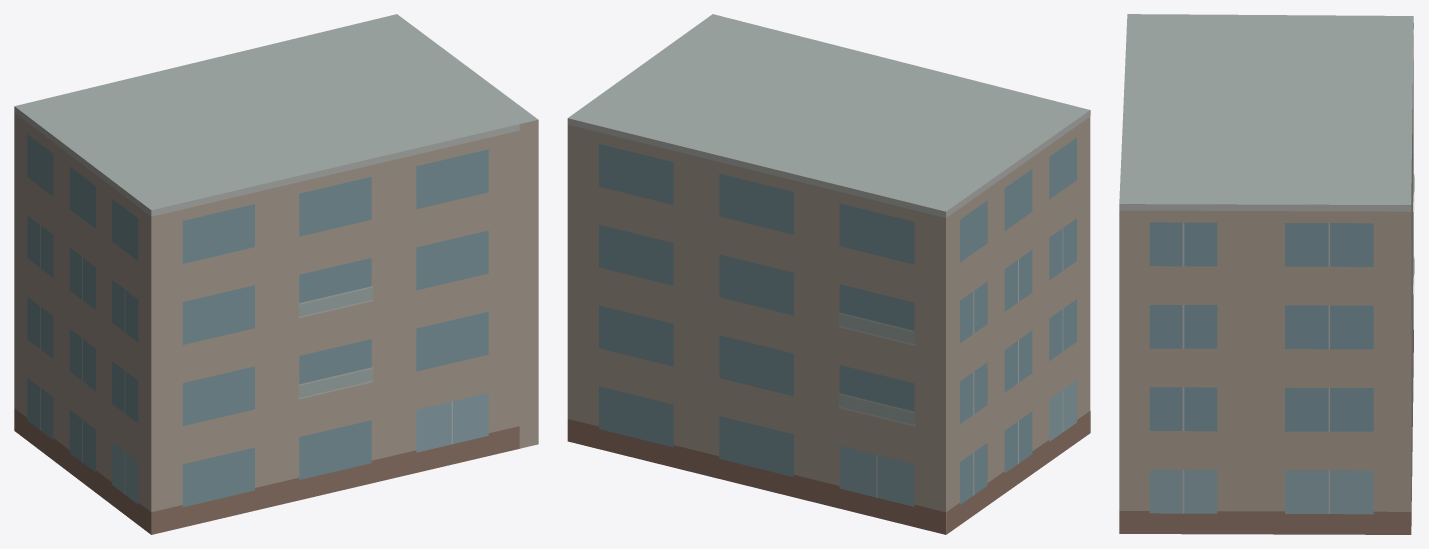
File: survey-upis-32486884.glb
The picture shows the model from 3 angles, left to right: view 1: azimuth 30°, elevation 25°; view 2: azimuth 150°, elevation 25°; view 3: azimuth 270°, elevation 25°; orthographic projection. The views are drawn at different scales.
Visible parts, largest first — view 1: survey-upis-32486884.tmp; view 2: survey-upis-32486884.tmp; view 3: survey-upis-32486884.tmp.
Part boxes in pixels (x1=…): survey-upis-32486884.tmp: x1=14, y1=14, x2=538, y2=534; survey-upis-32486884.tmp: x1=567, y1=14, x2=1090, y2=534; survey-upis-32486884.tmp: x1=1119, y1=14, x2=1414, y2=534.
Bounding box in the file's own units: 15.42 × 12.4 × 10.07.
